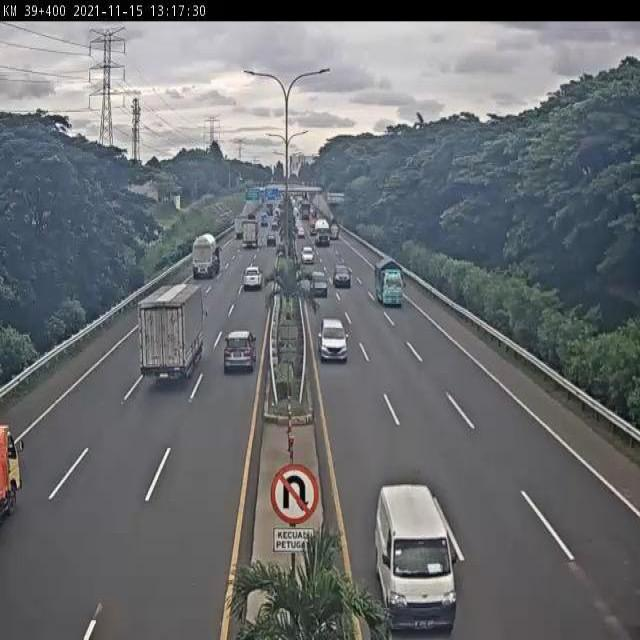bus-s-: (373, 480, 459, 640)
car: (222, 328, 257, 375), (318, 317, 350, 364), (307, 268, 328, 301), (330, 262, 354, 290), (242, 264, 262, 292)
truck-l-: (189, 231, 221, 280)
truck-m-: (138, 281, 206, 388), (370, 256, 406, 308)
